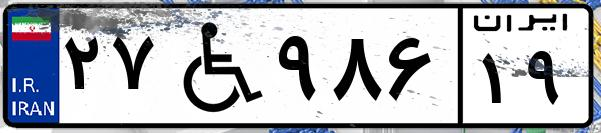1: (475, 38, 525, 113)
2: (57, 26, 110, 100)
6: (385, 28, 445, 110)
7: (110, 28, 158, 98)
8: (330, 28, 385, 110)
9: (270, 28, 330, 110), (525, 38, 570, 115)
ژ (معلولین و جانبازان): (158, 12, 270, 120)
